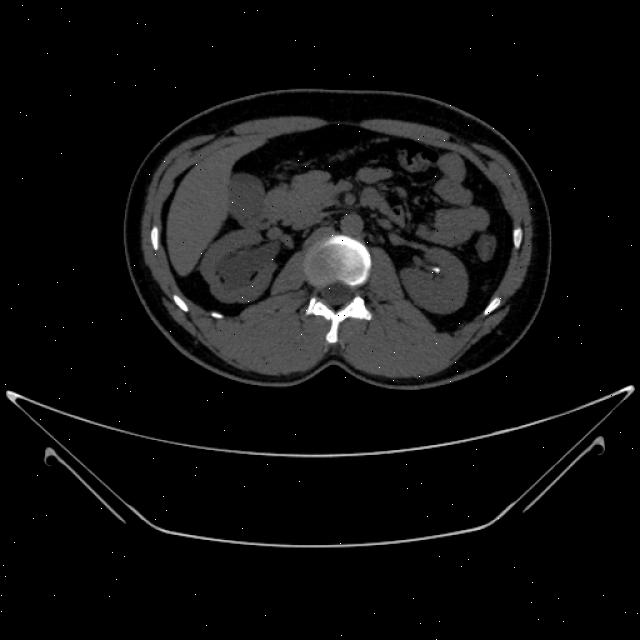kidneystone: (431, 265, 440, 276)
